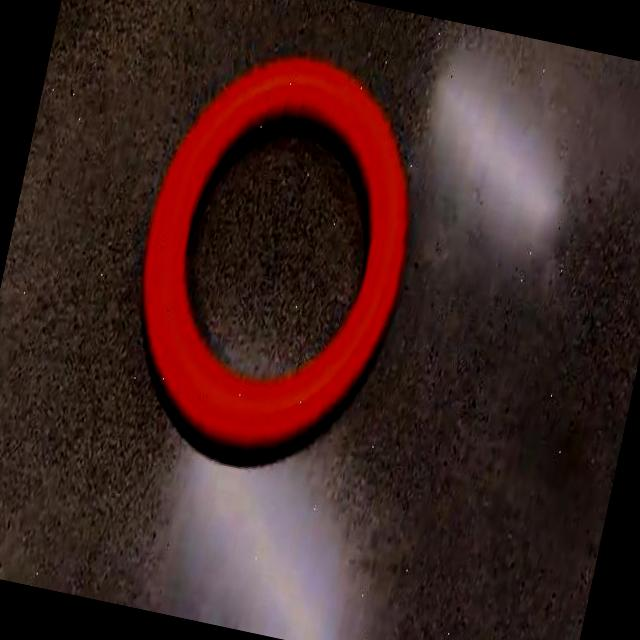note: (143, 59, 407, 450)
